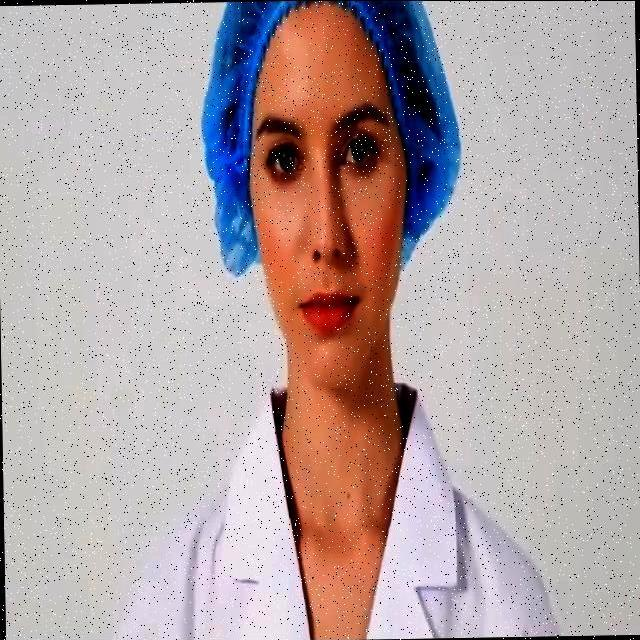gloves: (200, 0, 392, 134)
no_hairnet: (257, 200, 413, 328)
